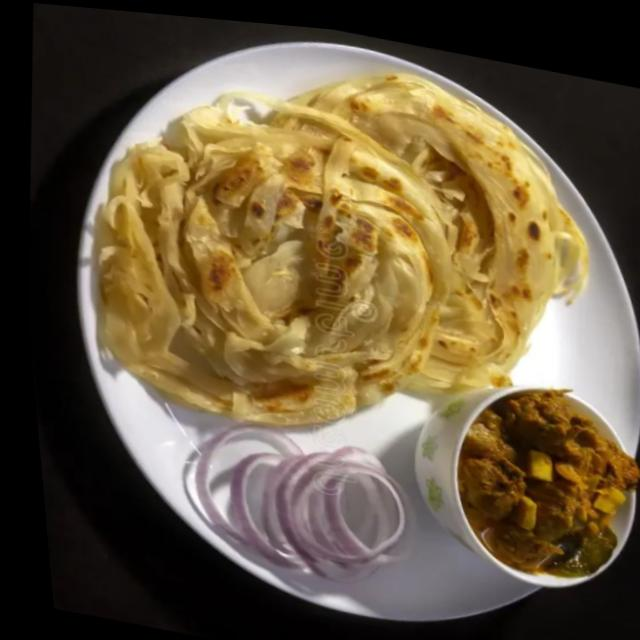CURRY: (456, 386, 638, 579)
PAROTTA: (95, 66, 591, 425)
